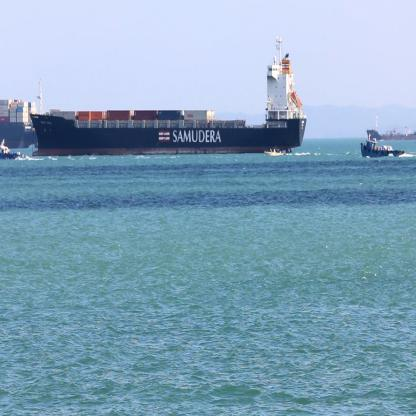Container Ship: (32, 32, 310, 156), (1, 98, 38, 150)
